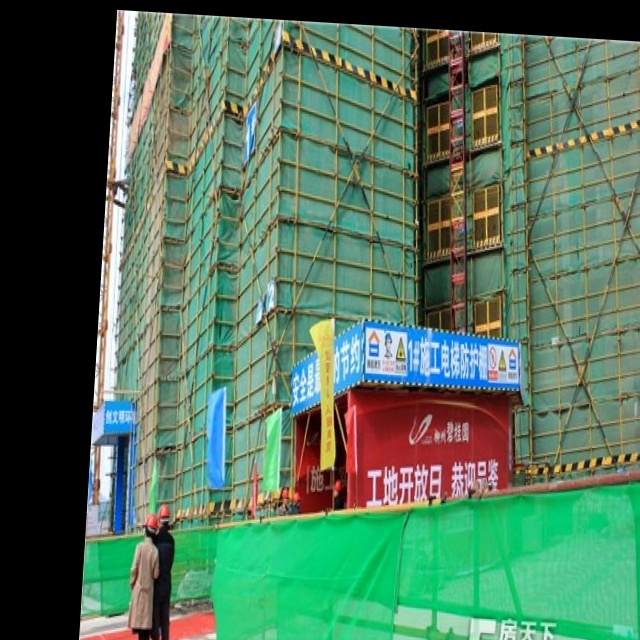Con_Casco: (144, 513, 160, 540), (157, 501, 171, 530)
